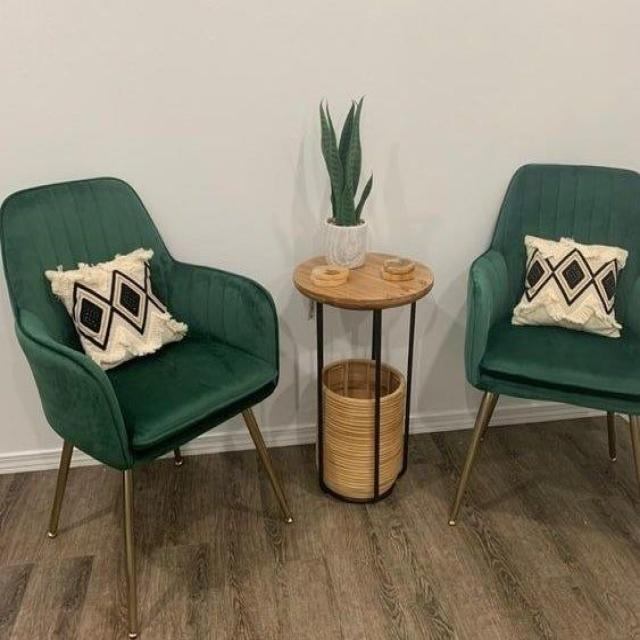chair: (2, 169, 318, 613), (454, 137, 640, 592)
